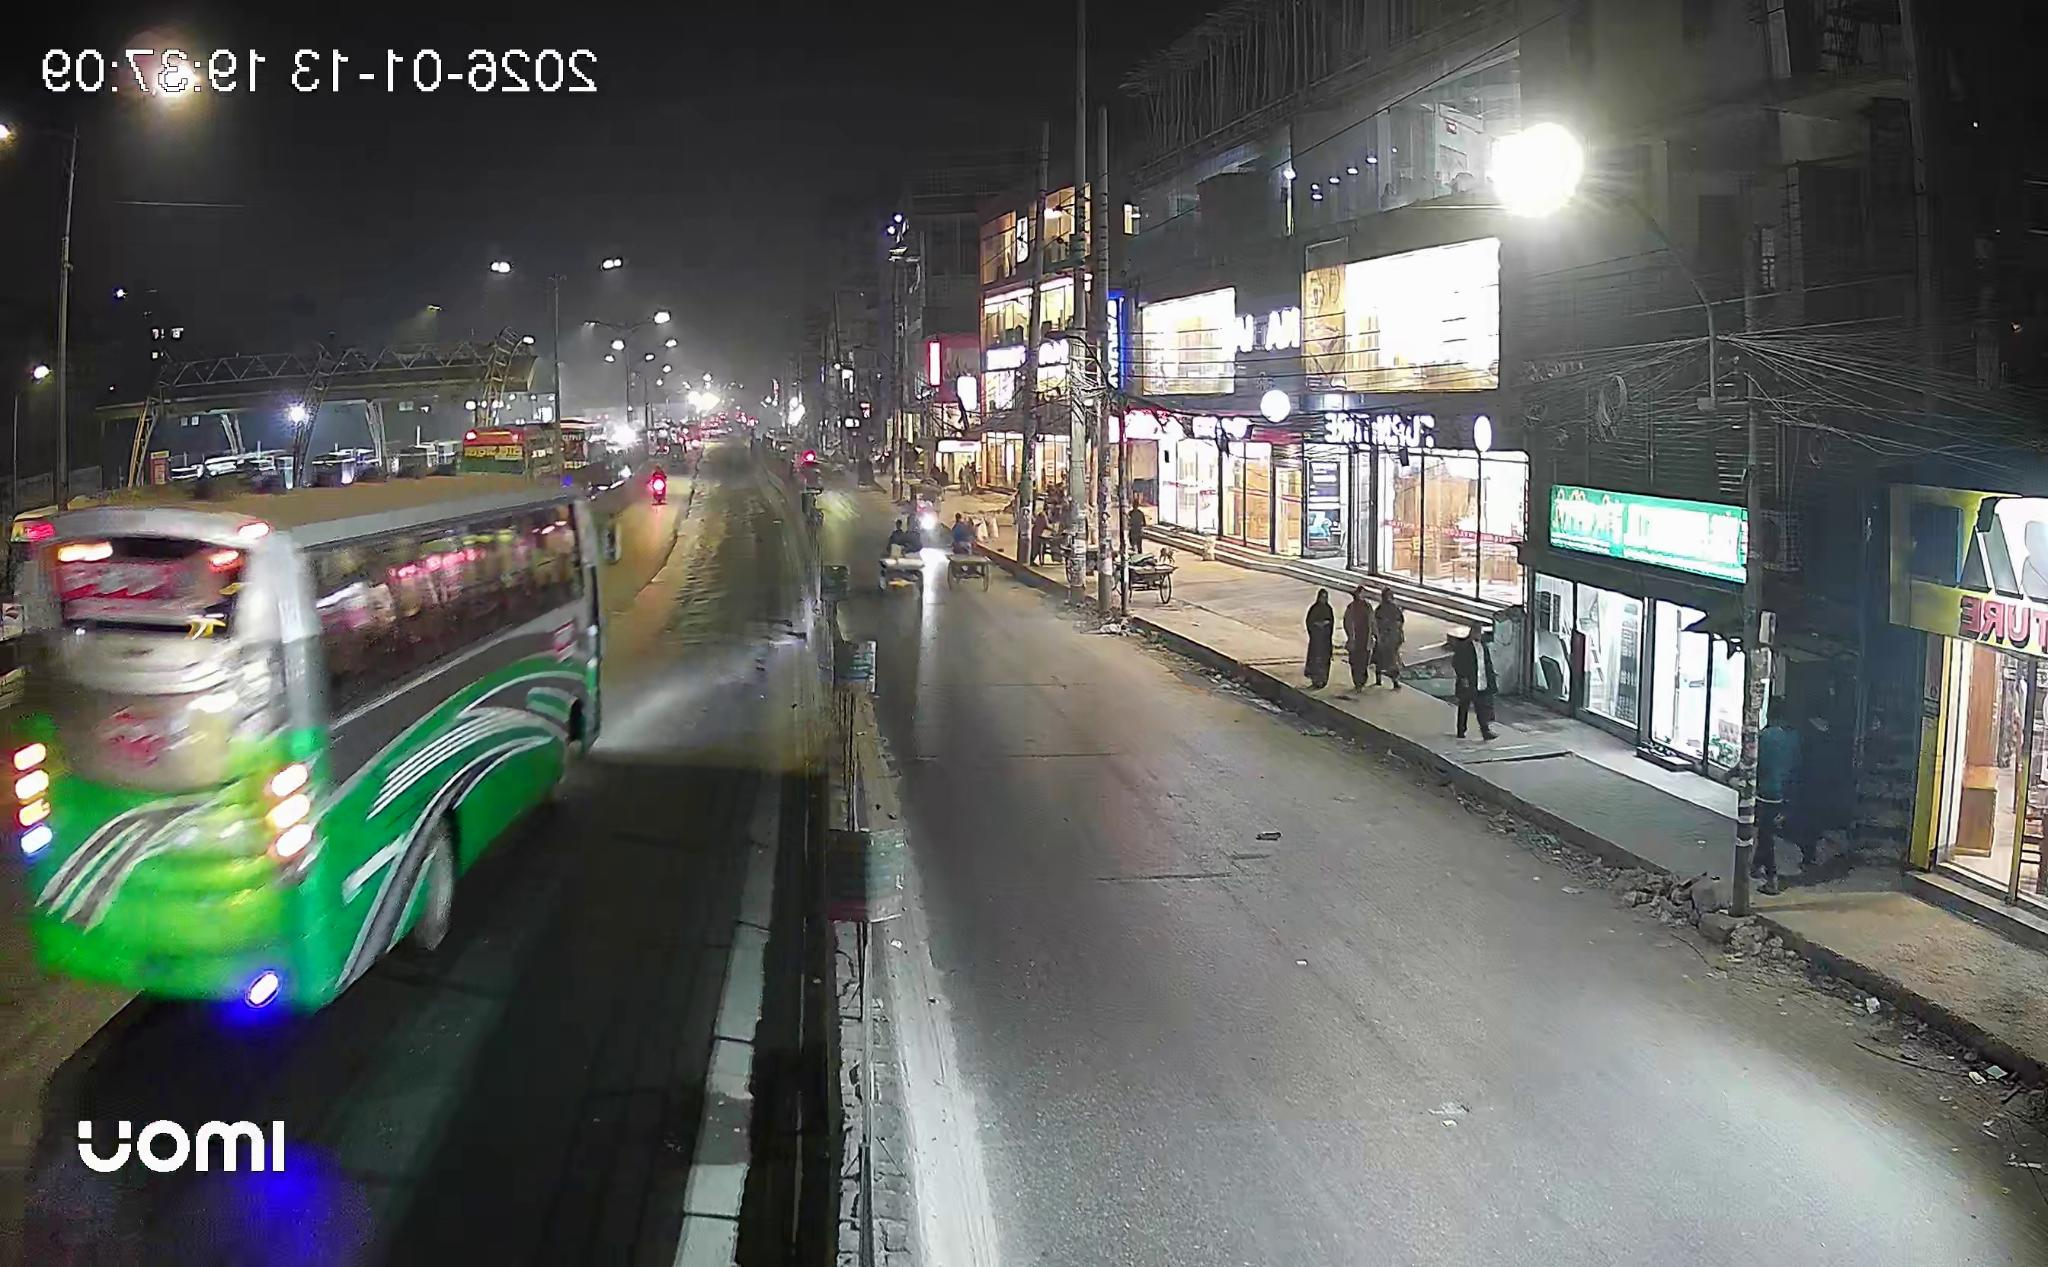Bus: (1, 475, 607, 1017)
